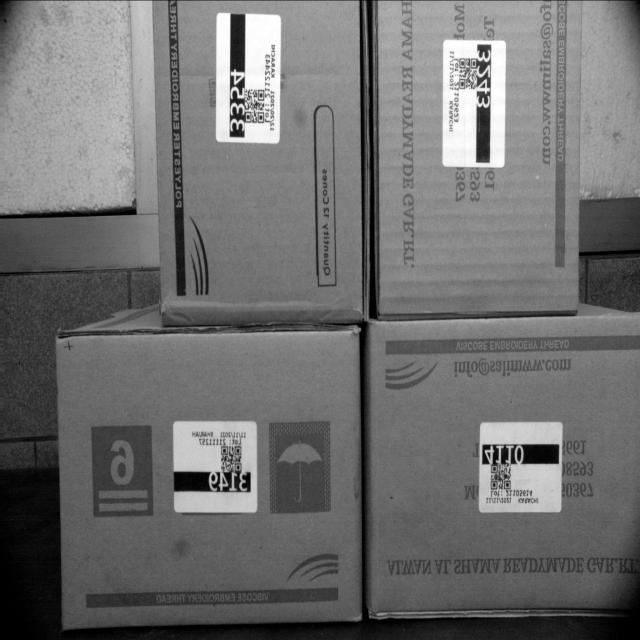cardboxes: (58, 328, 363, 622), (360, 313, 640, 616), (372, 0, 584, 316), (157, 0, 361, 322)
